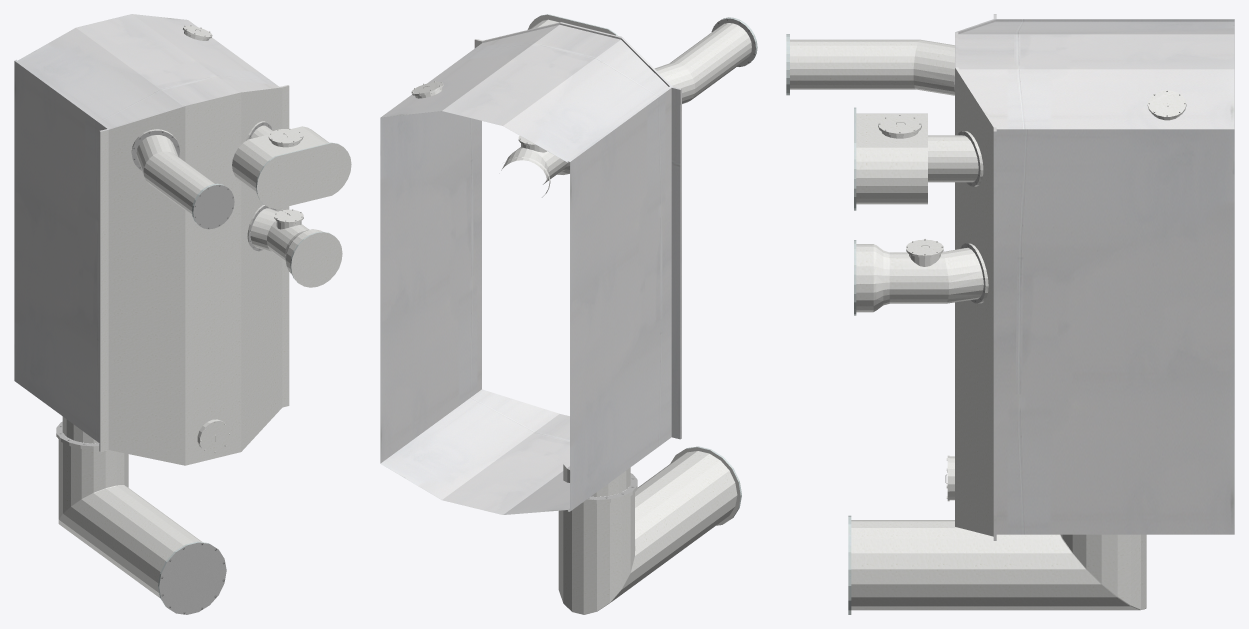
File: bt006-geode.glb
3 renders of one model, left to right at view 1: azimuth 30°, elevation 25°; view 2: azimuth 150°, elevation 25°; view 3: azimuth 270°, elevation 25°, orthographic. The views are drawn at different scales.
Parts seen in each view (by area): view 1: Node; view 2: Node; view 3: Node.
Part boxes in pixels (bbox=[...]): Node: bbox=[14, 14, 351, 614]; Node: bbox=[380, 14, 757, 614]; Node: bbox=[786, 14, 1234, 614].
Size of the model in its own units: 3.83 by 8.74 by 5.93.
Materials: 4 (4 with a texture image).
